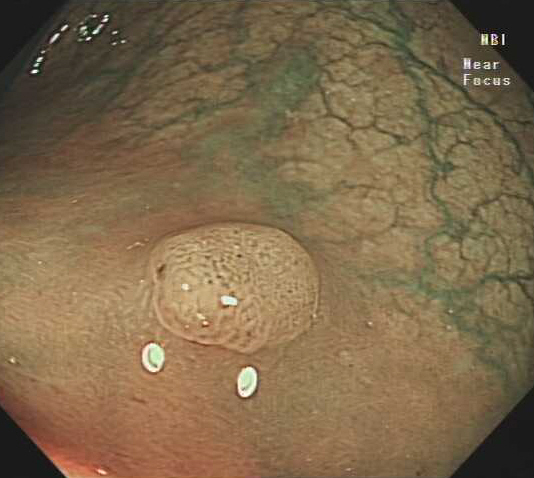adenoma: (145, 219, 323, 353)
